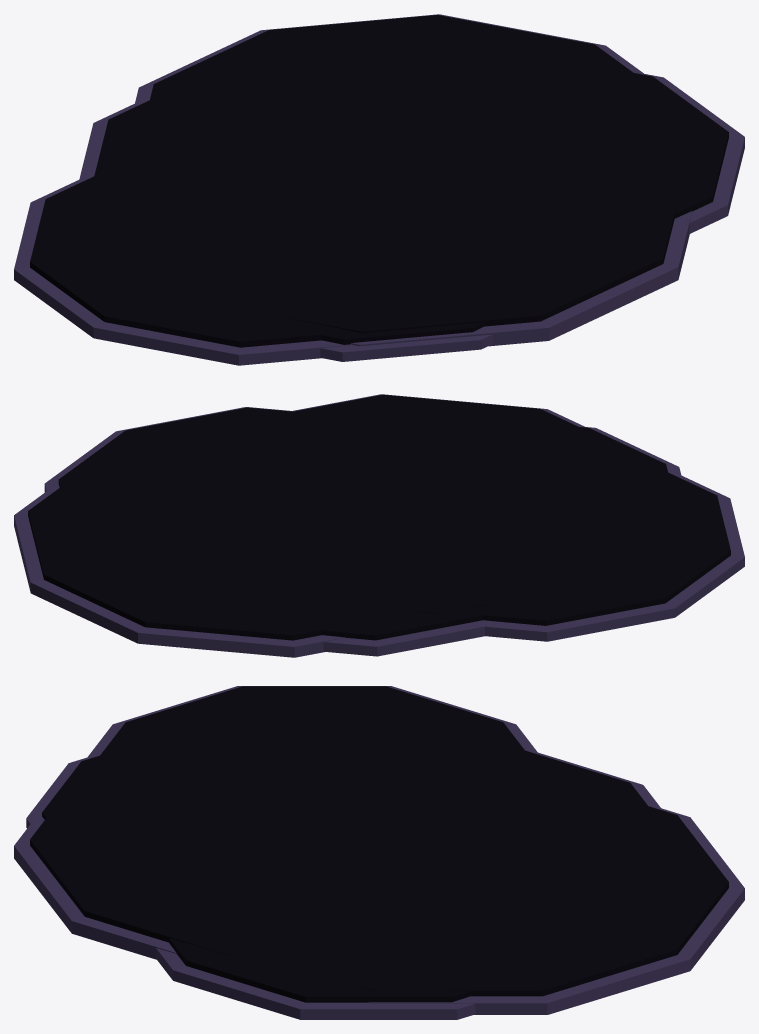
Rendered from hero_karma_floor_10.glb.
3 views of the same model, one above another, from view 1: azimuth 30°, elevation 25°; view 2: azimuth 150°, elevation 25°; view 3: azimuth 270°, elevation 25° (orthographic). The views are drawn at different scales.
Parts seen in each view (by area): view 1: hero_karma_floor_10; view 2: hero_karma_floor_10; view 3: hero_karma_floor_10.
Part boxes in pixels (x1,y1,x2,y2): hero_karma_floor_10: [14, 14, 744, 365]; hero_karma_floor_10: [14, 394, 744, 657]; hero_karma_floor_10: [14, 686, 744, 1019].
Size of the model in its own units: 1.46 by 0.0672 by 1.39.
